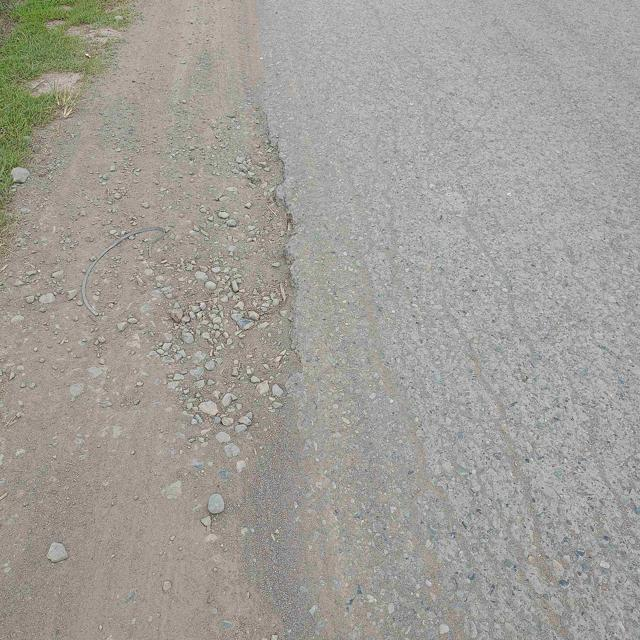Pinggir: (137, 57, 373, 591)
